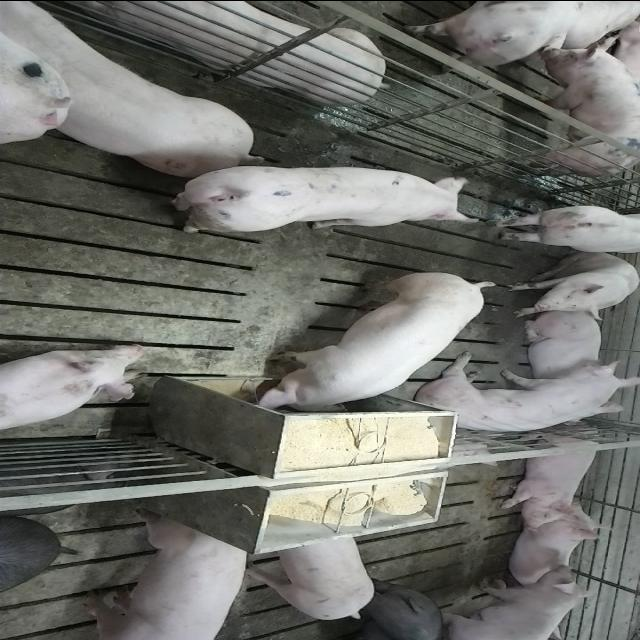Feeding: (247, 274, 495, 420)
Sitting: (414, 356, 636, 438), (504, 250, 640, 318)
Standing: (76, 513, 254, 639), (161, 162, 475, 232), (512, 48, 640, 180), (242, 534, 375, 622), (435, 572, 600, 640), (488, 202, 638, 255), (330, 582, 449, 640)
Sternal_lying: (62, 0, 384, 100), (0, 345, 151, 434), (498, 506, 612, 584), (516, 311, 616, 392)
